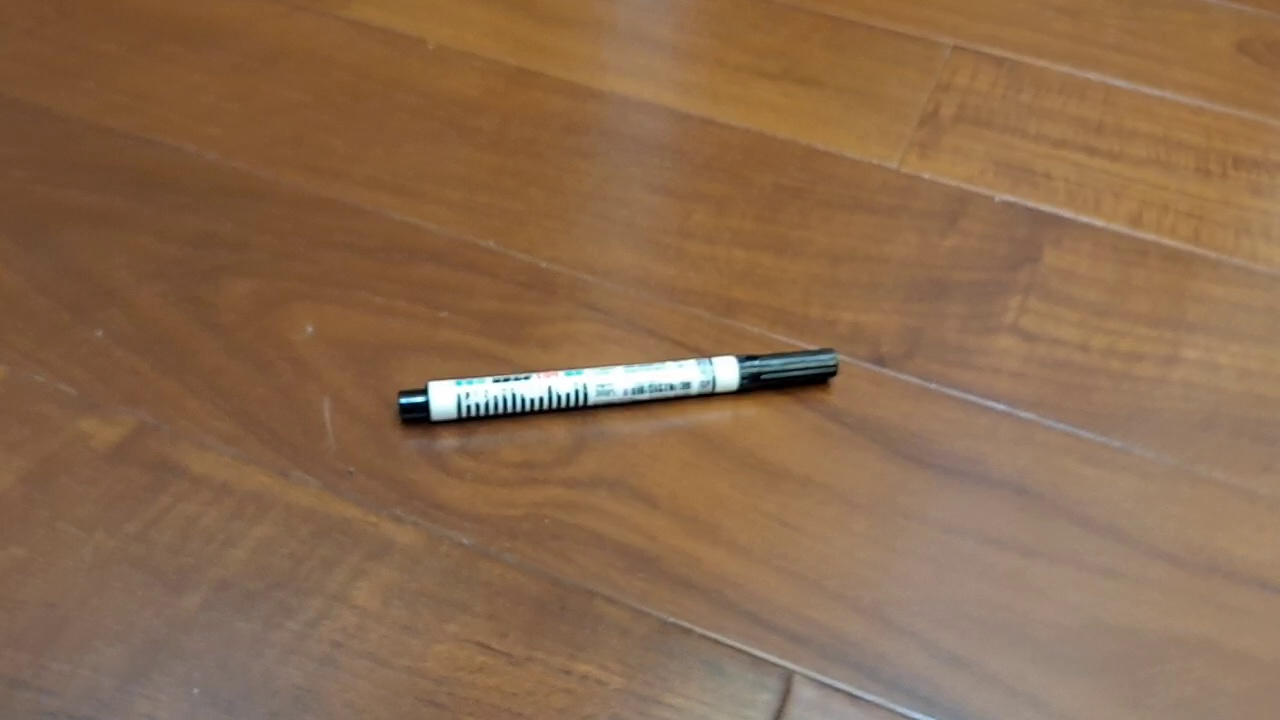pen: (397, 347, 839, 426)
